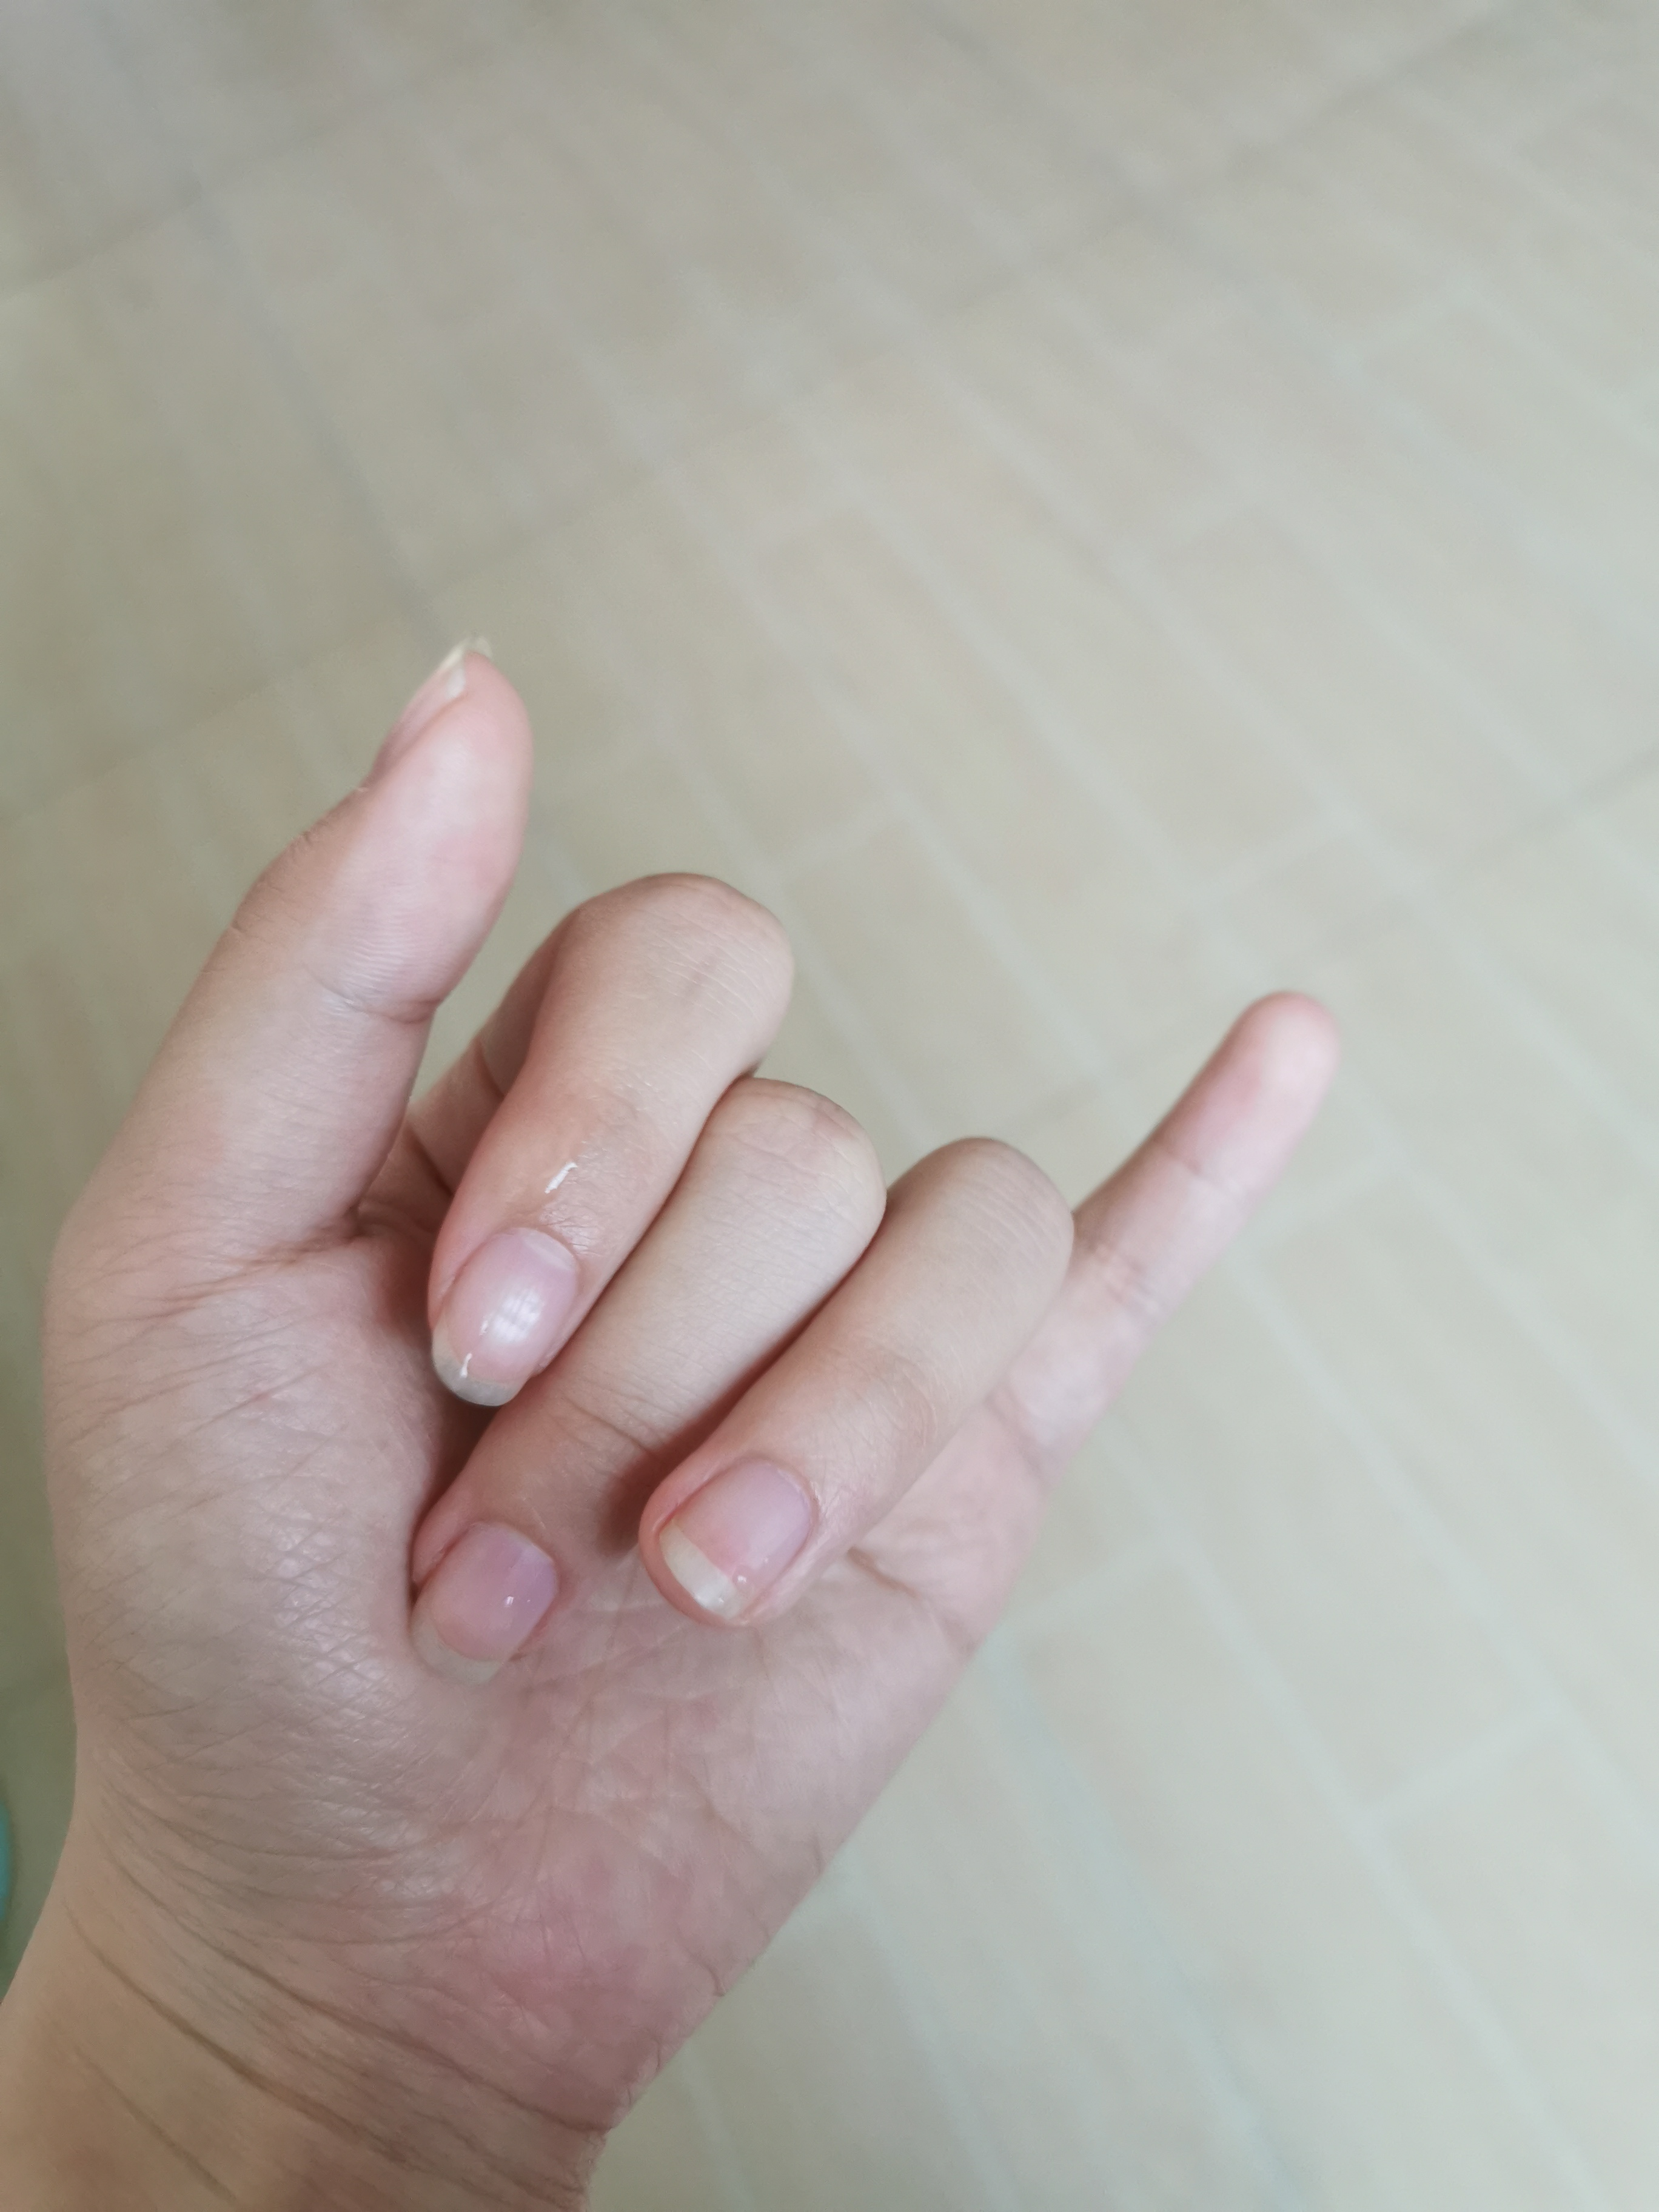clockwise: (54, 636, 1364, 1890)
